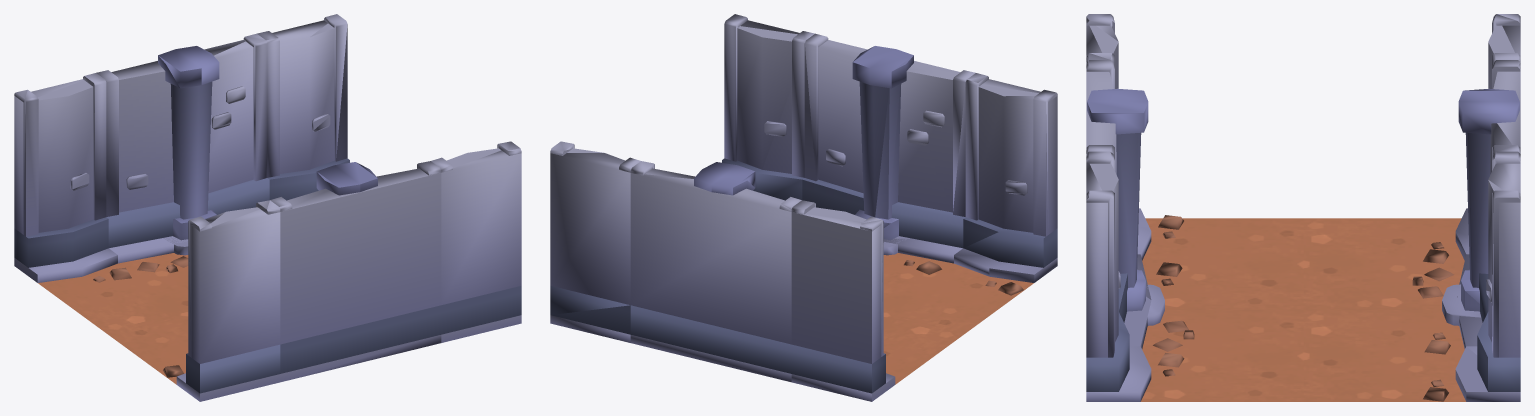
The model's file is corridor-wide.fbx.
3 views of the same model, side by side, from view 1: azimuth 30°, elevation 25°; view 2: azimuth 150°, elevation 25°; view 3: azimuth 270°, elevation 25° (orthographic). The views are drawn at different scales.
Parts seen in each view (by area): view 1: corridor-wide; view 2: corridor-wide; view 3: corridor-wide.
Boxes of the visible parts, x1,y1,x2,y2 form: corridor-wide: [14, 14, 521, 401]; corridor-wide: [550, 14, 1057, 401]; corridor-wide: [1086, 14, 1520, 401].
Bounding box in the file's own units: 800 × 423 × 800.
